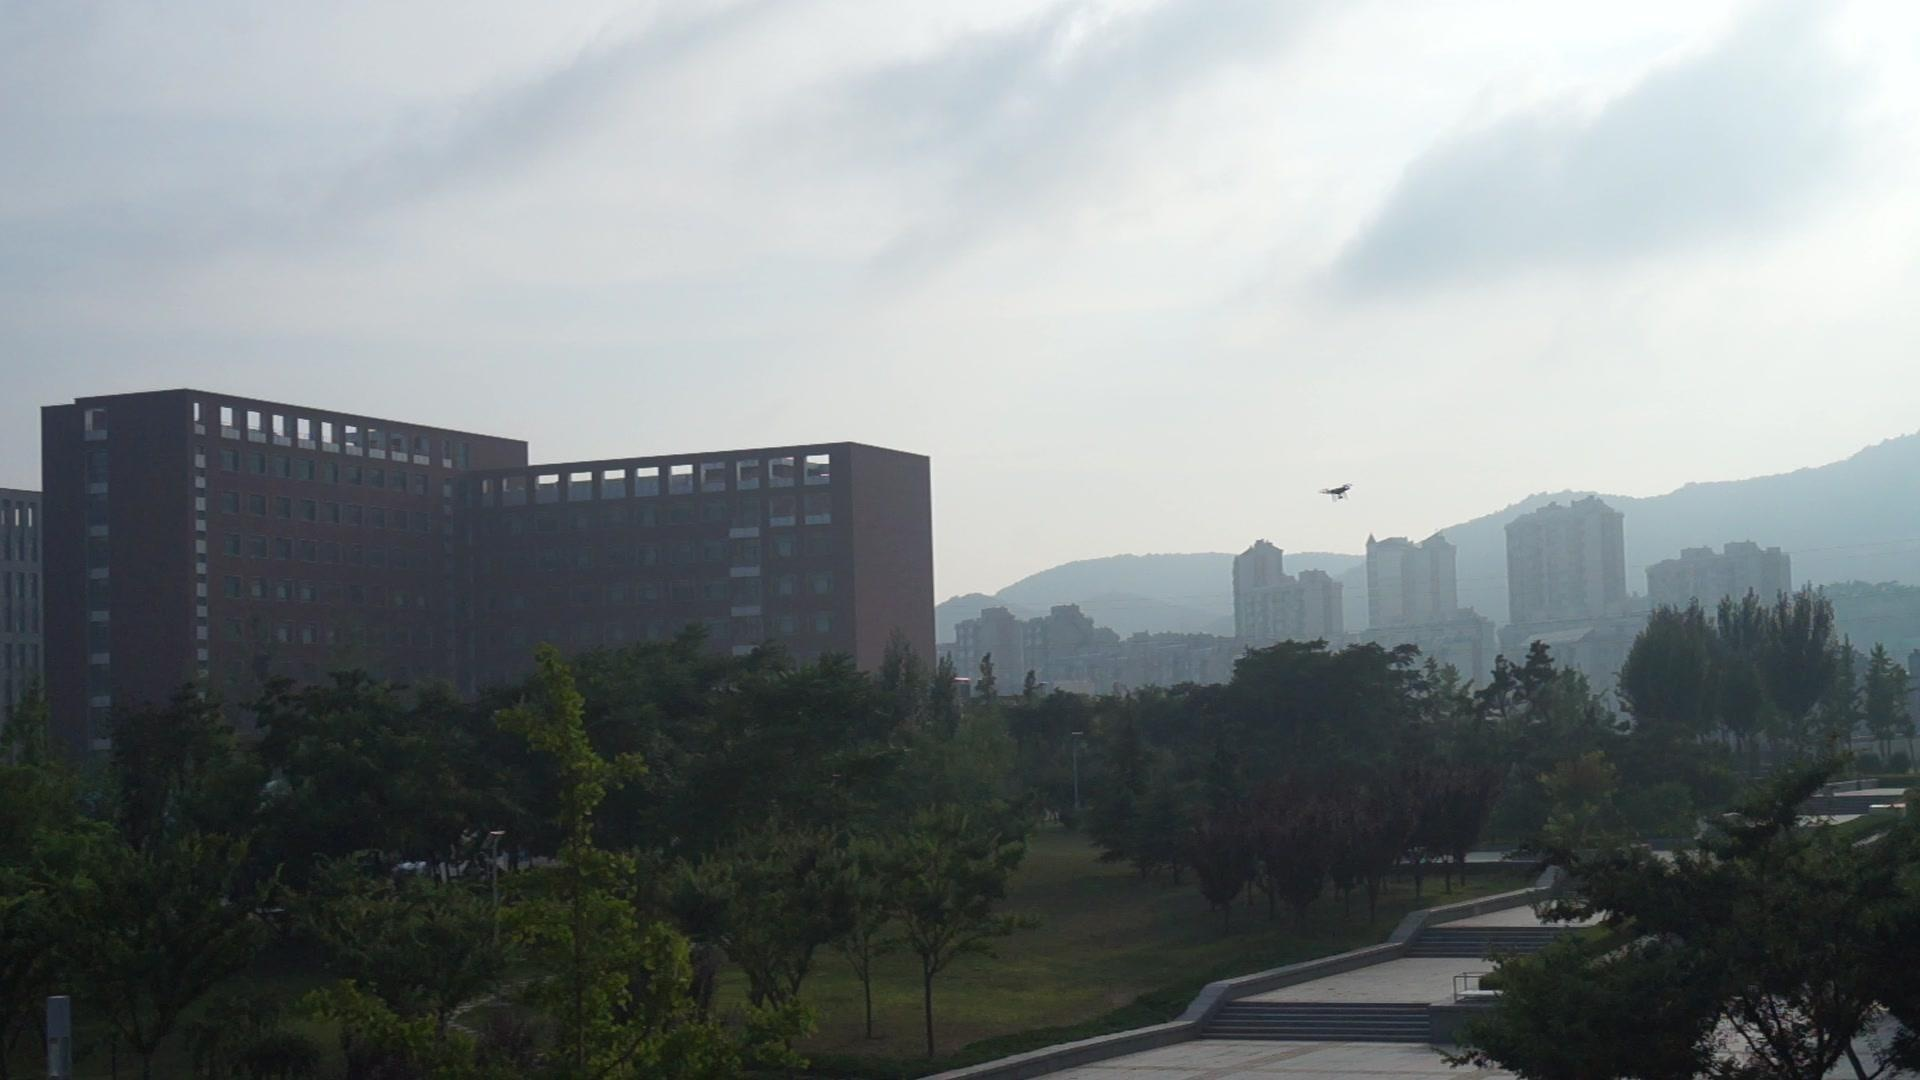UAV: (1319, 483, 1356, 502)
